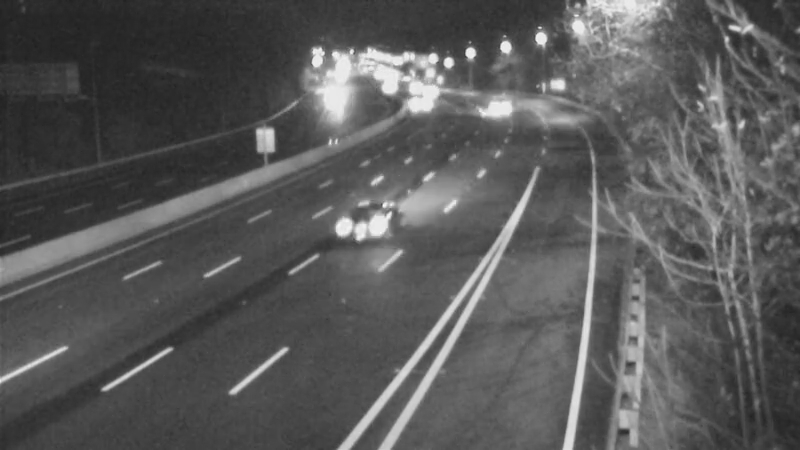vehicle: (317, 188, 397, 268), (362, 64, 412, 114), (404, 66, 454, 116), (474, 82, 524, 132), (391, 78, 441, 128)
